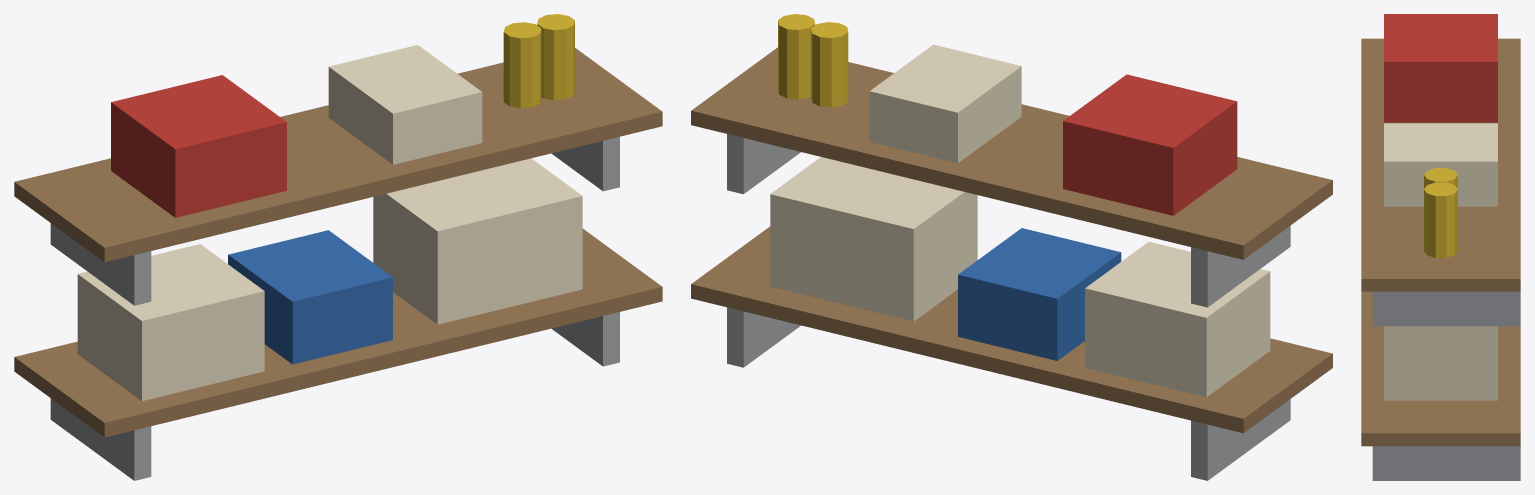
Rendered from wall_shelf.glb.
The picture shows the model from 3 angles, left to right: view 1: azimuth 30°, elevation 25°; view 2: azimuth 150°, elevation 25°; view 3: azimuth 270°, elevation 25°; orthographic projection. The views are drawn at different scales.
Visible parts, largest first — view 1: wall_shelf; view 2: wall_shelf; view 3: wall_shelf.
Part boxes in pixels (x1=…): wall_shelf: x1=14, y1=14, x2=662, y2=480; wall_shelf: x1=691, y1=14, x2=1332, y2=480; wall_shelf: x1=1361, y1=14, x2=1520, y2=480.
Bounding box in the file's own units: 1 × 0.545 × 0.28.
